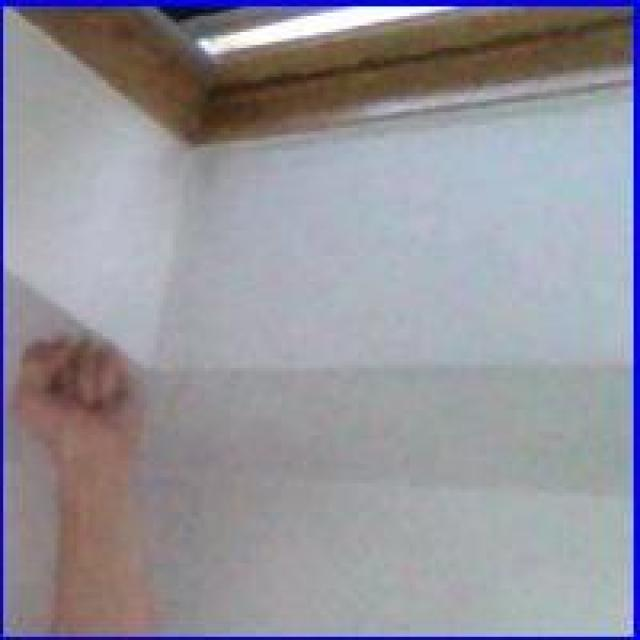S: (11, 323, 149, 464)
